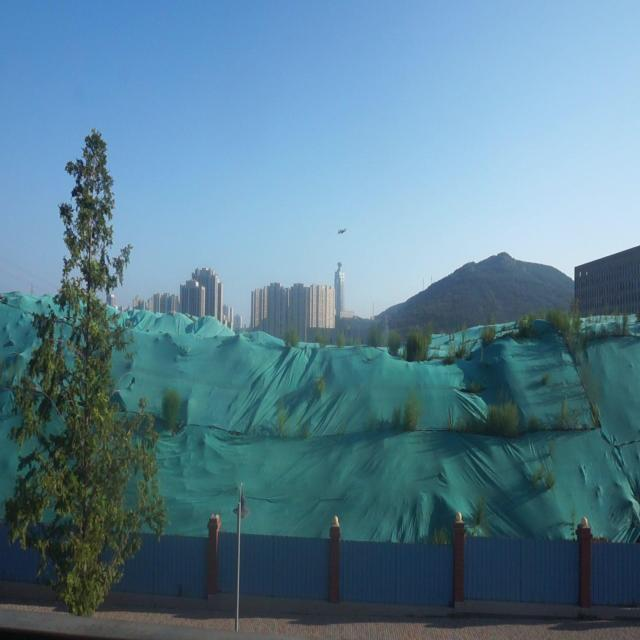UAV: (336, 228, 346, 235)
